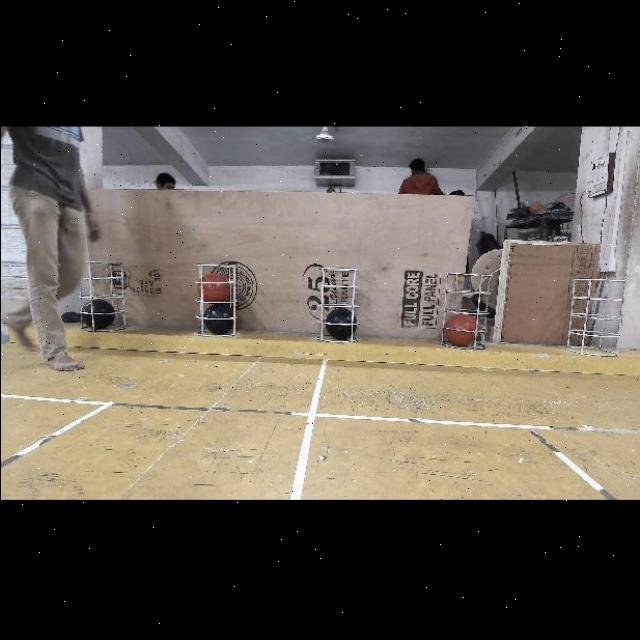P: (82, 300, 115, 330), (327, 308, 358, 338), (204, 306, 232, 332)
R: (447, 314, 479, 344), (198, 274, 228, 300)
S: (564, 276, 628, 354), (75, 257, 128, 335), (441, 276, 494, 352), (196, 259, 240, 343), (315, 266, 361, 346)
